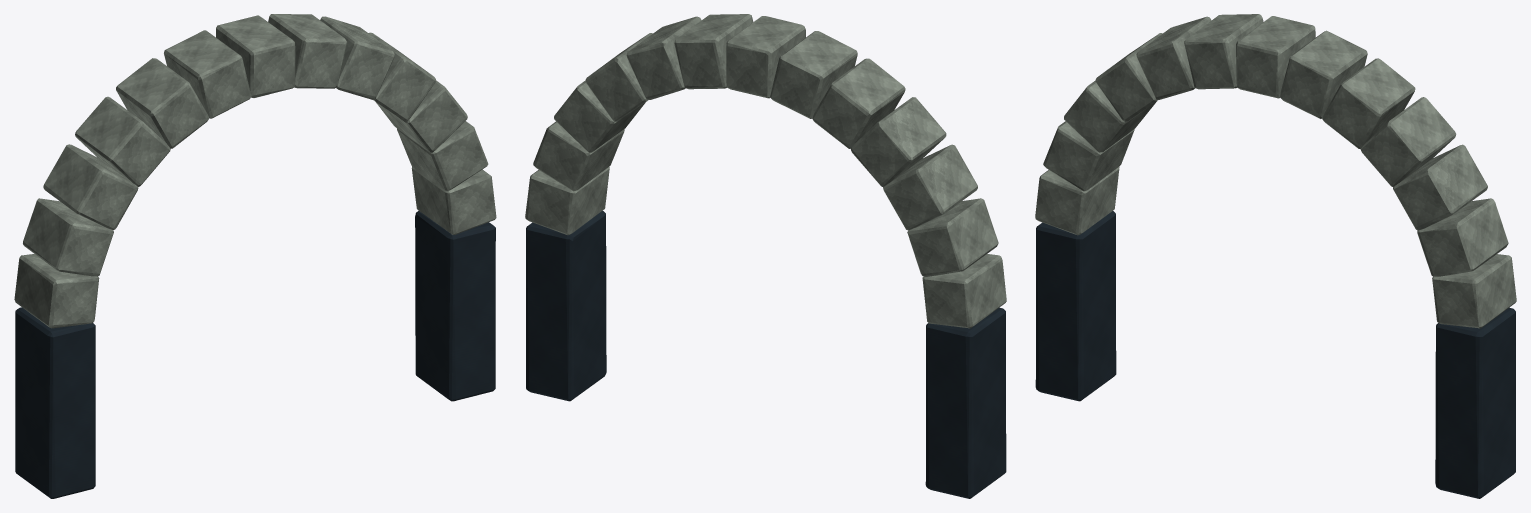
File: arch_low.glb
3 views of the same model, side by side, from view 1: azimuth 30°, elevation 25°; view 2: azimuth 150°, elevation 25°; view 3: azimuth 330°, elevation 25° (orthographic).
Parts seen in each view (by area): view 1: Veined_marble, Weathered_basalt; view 2: Veined_marble, Weathered_basalt; view 3: Veined_marble, Weathered_basalt.
Part boxes in pixels (x1=…): Veined_marble: x1=14, y1=14, x2=496, y2=328; Weathered_basalt: x1=15, y1=211, x2=495, y2=498; Veined_marble: x1=525, y1=14, x2=1006, y2=328; Weathered_basalt: x1=526, y1=211, x2=1006, y2=498; Veined_marble: x1=1035, y1=14, x2=1516, y2=328; Weathered_basalt: x1=1035, y1=211, x2=1515, y2=498.
Size of the model in its own units: 4.48 by 3.83 by 0.6458.
2 materials, 2 textured.
